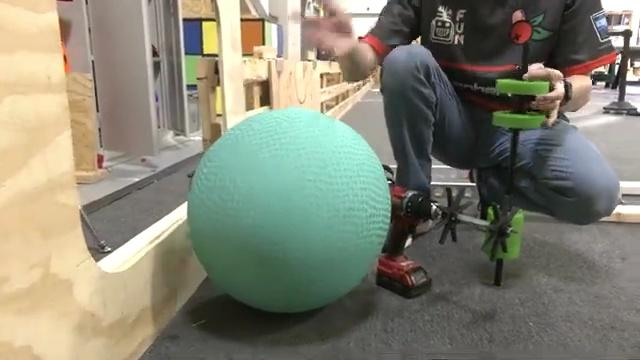ALGAE: (185, 105, 392, 314)
